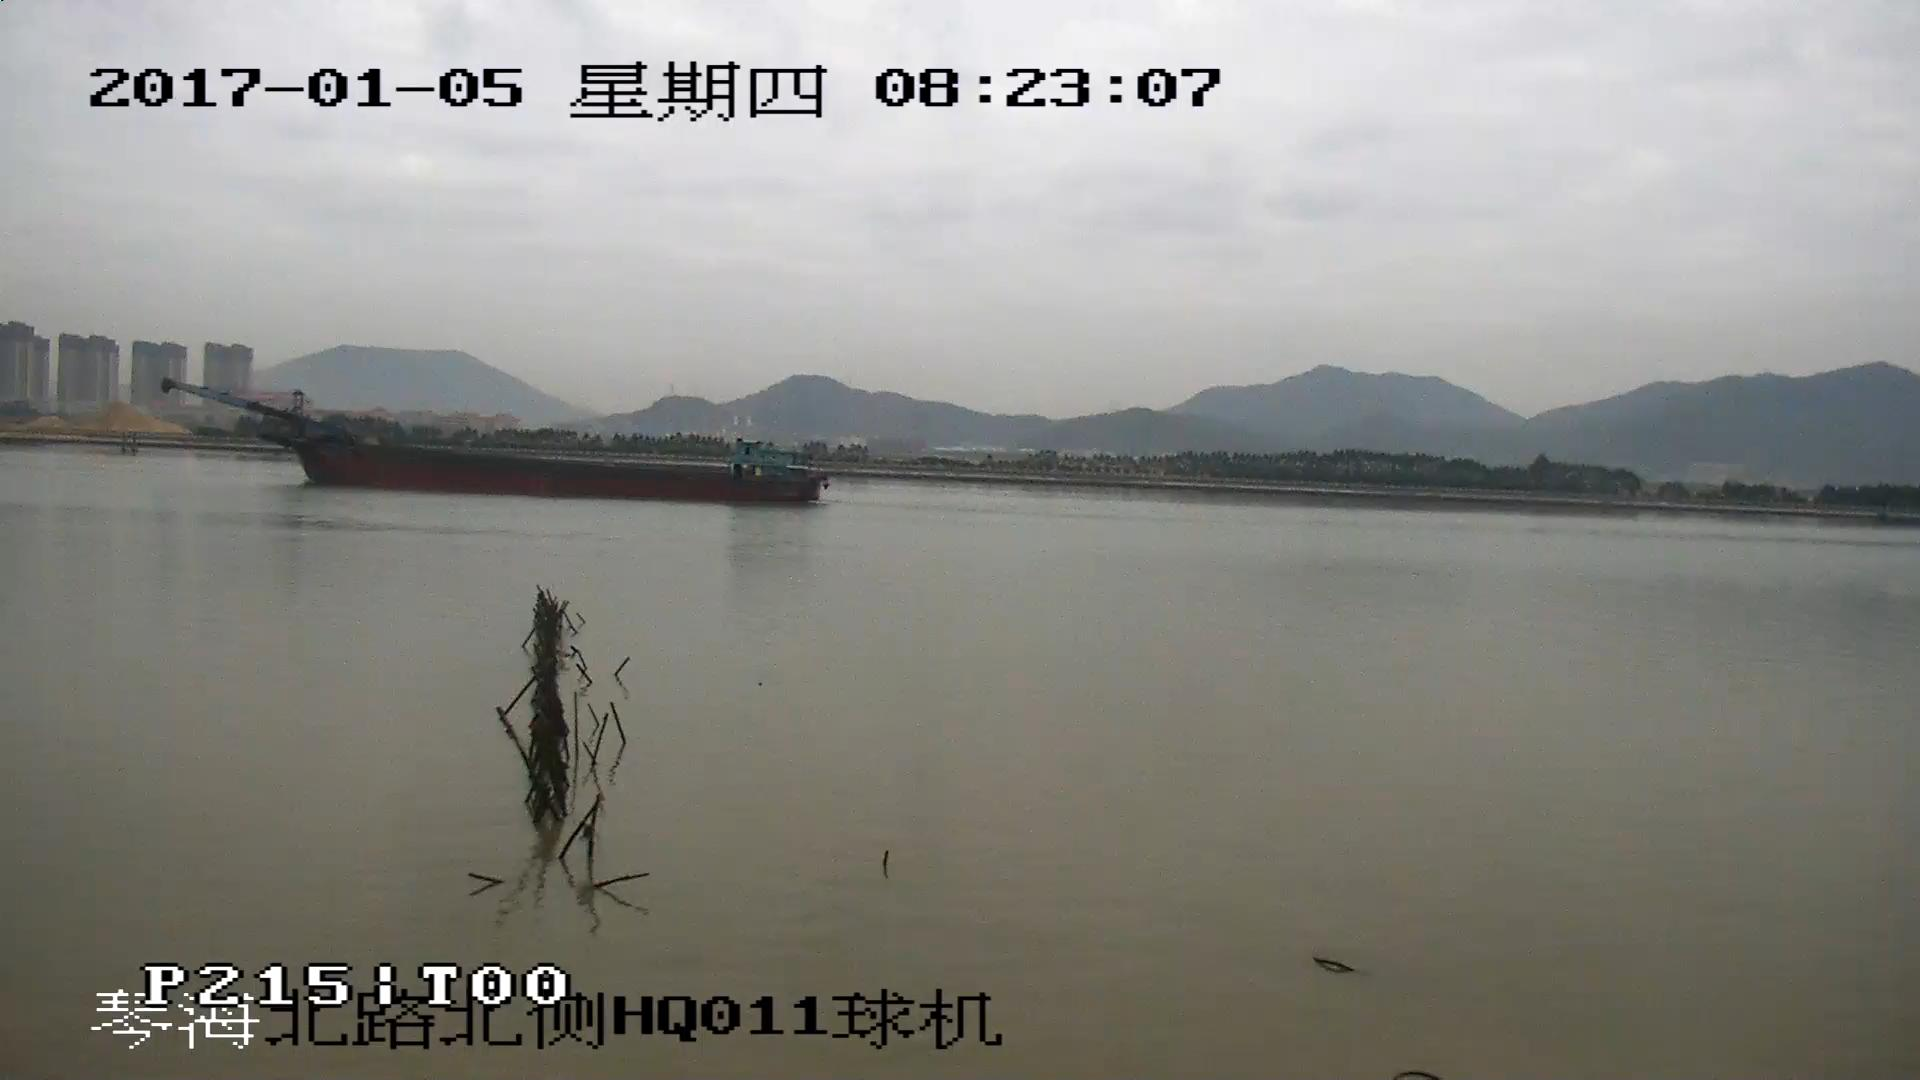bulk cargo carrier: (166, 379, 832, 501)
